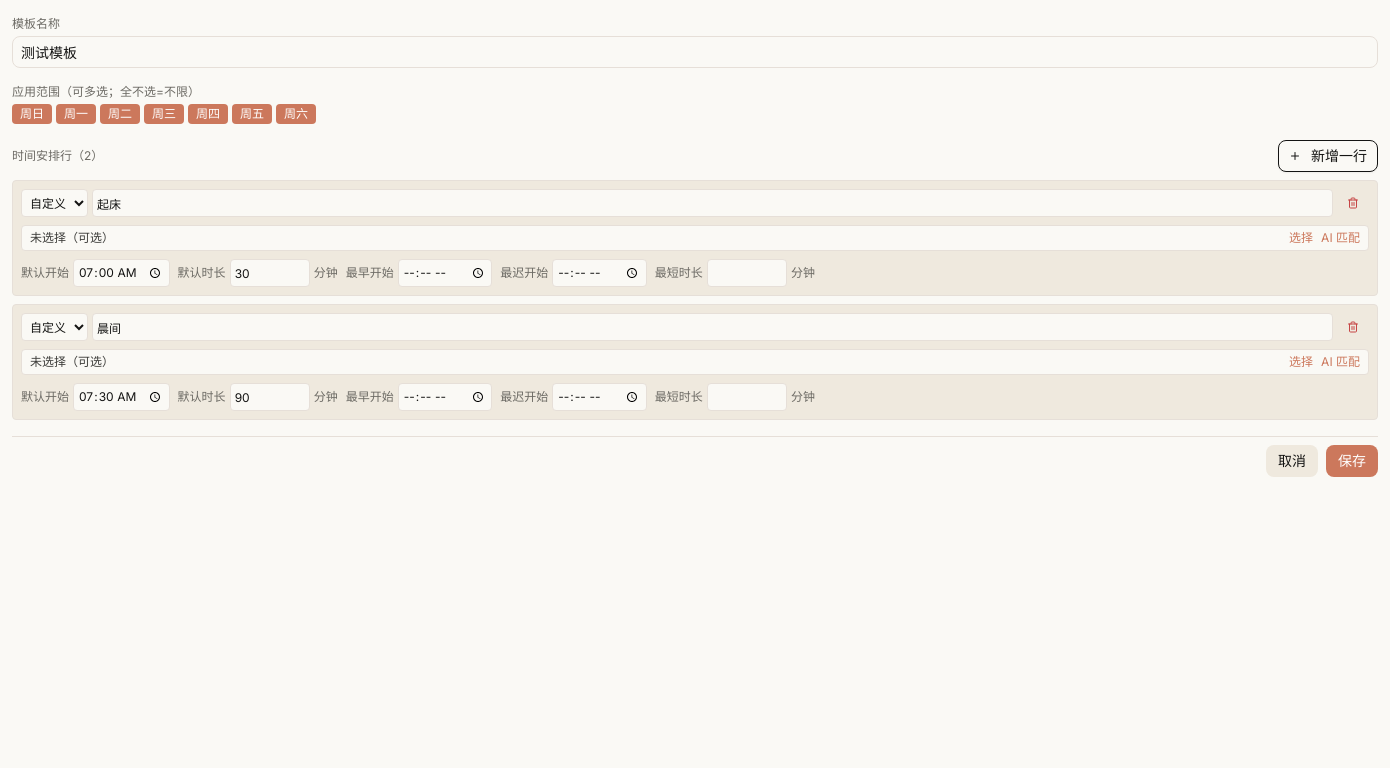
Scenario: TemplateEditForm — 行增删 › 点「新增一行」→ 行数 +1，新行 source=custom + 09:00–10:00
Expected: the text "时间安排行（2）" is shown, [12,148,103,164]
Click the button "新增一行".
click(1328, 156)  # box [1278,140,1378,172]
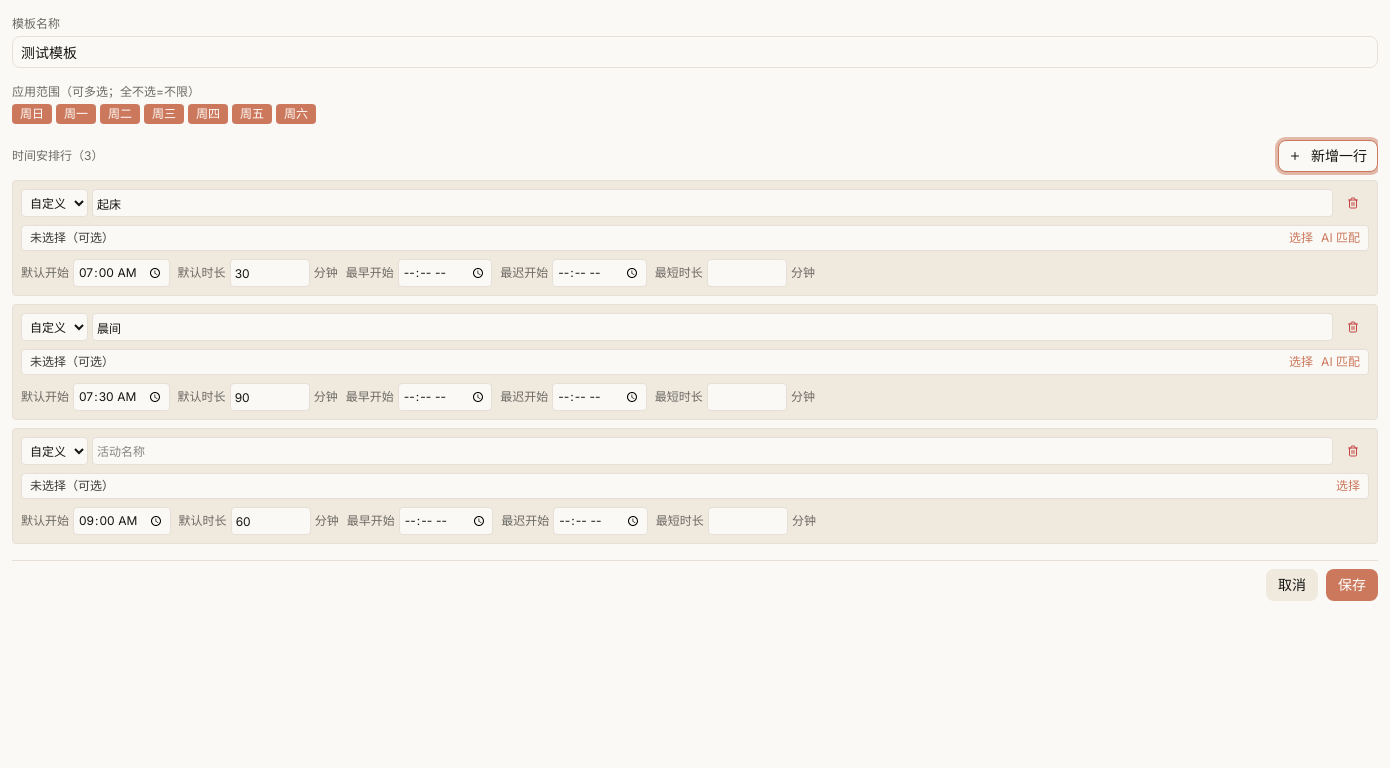
Result: the text "时间安排行（3）" is shown at [12,148,104,164]
Result: the number of dropdowns named "行来源" is 3 at [21,189,88,217]; [21,313,88,341]; [21,437,88,465]
Result: the 3rd dropdown named "行来源" shows "自定义" at [21,437,88,465]
